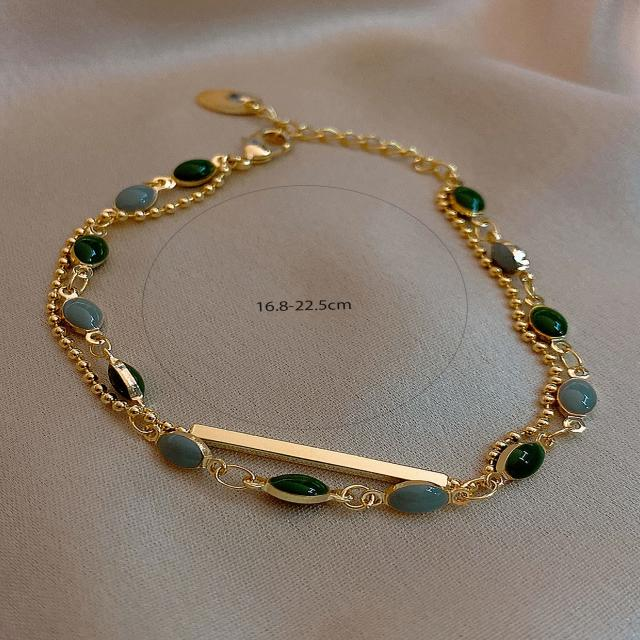bracelet: (18, 28, 639, 569)
